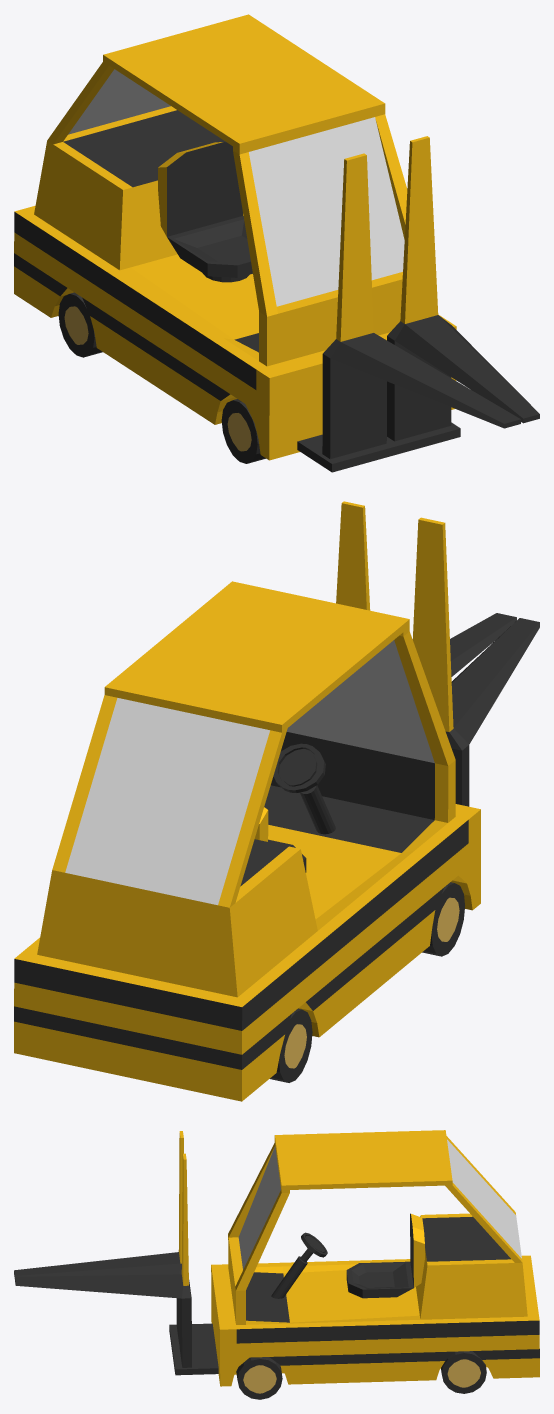
Rendered from lift.fbx.
3 renders of one model, top to bottom at view 1: azimuth 30°, elevation 25°; view 2: azimuth 150°, elevation 25°; view 3: azimuth 270°, elevation 25°, orthographic. The views are drawn at different scales.
Visible parts, largest first — view 1: forklift.001; view 2: forklift.001; view 3: forklift.001.
Part boxes in pixels (<box>): forklift.001: <box>14,14,539,472</box>; forklift.001: <box>14,501,539,1101</box>; forklift.001: <box>14,1130,539,1399</box>.
Bounding box in the file's own units: 168 × 243 × 515.
